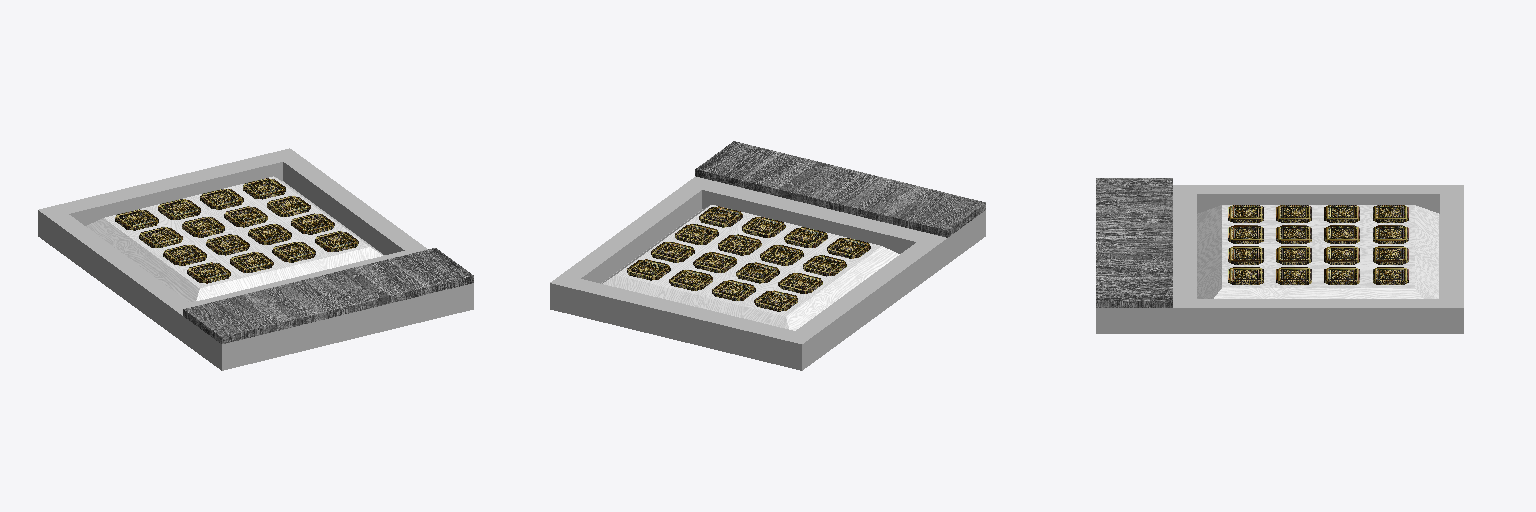
3 views of the same model, side by side, from view 1: azimuth 30°, elevation 25°; view 2: azimuth 150°, elevation 25°; view 3: azimuth 270°, elevation 25° (orthographic).
Parts seen in each view (by area): view 1: Board; view 2: Board; view 3: Board.
Boxes of the visible parts, x1,y1,x2,y2 form: Board: [38, 148, 473, 370]; Board: [550, 141, 985, 370]; Board: [1096, 178, 1463, 333].
Bounding box in the file's own units: 7.8 × 0.9925 × 9.86.
4 materials, 3 textured.